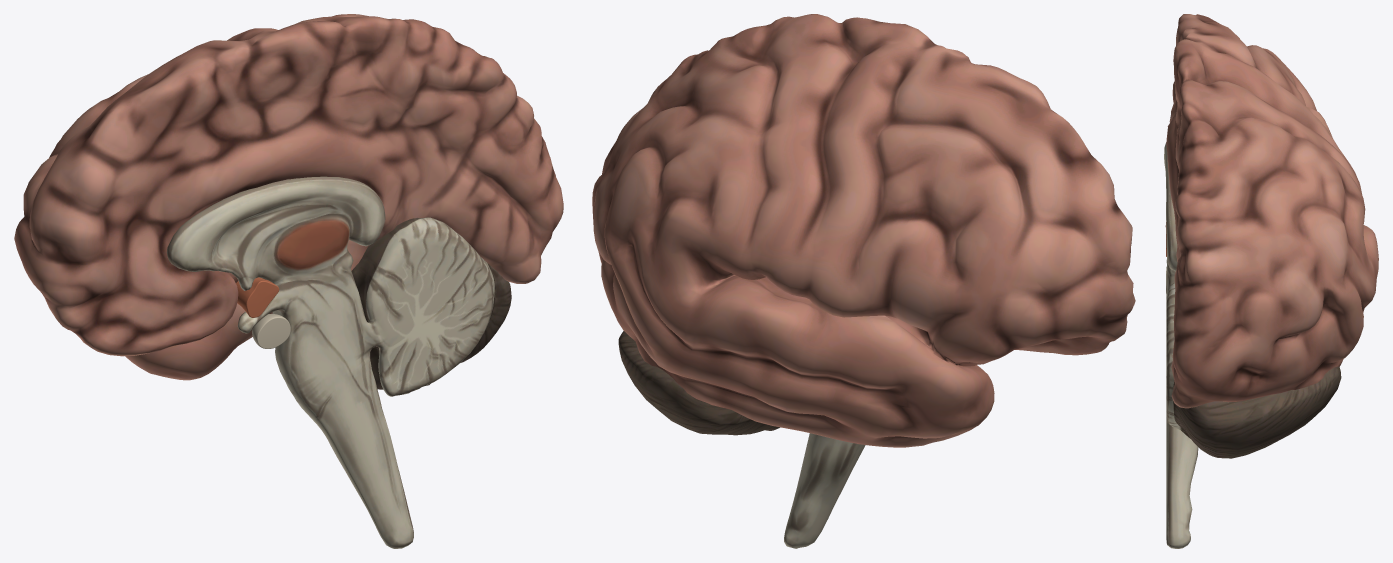
Rendered from human-brain.fbx.
3 renders of one model, left to right at view 1: azimuth 30°, elevation 25°; view 2: azimuth 150°, elevation 25°; view 3: azimuth 270°, elevation 25°, orthographic. The views are drawn at different scales.
Parts seen in each view (by area): view 1: node_id64; view 2: node_id64; view 3: node_id64.
Part boxes in pixels (<box>): node_id64: <box>14,14,563,548</box>; node_id64: <box>592,14,1135,548</box>; node_id64: <box>1164,14,1378,548</box>.
Size of the model in its own units: 0.512 by 0.5101 by 0.2167.
1 material, 1 textured.
